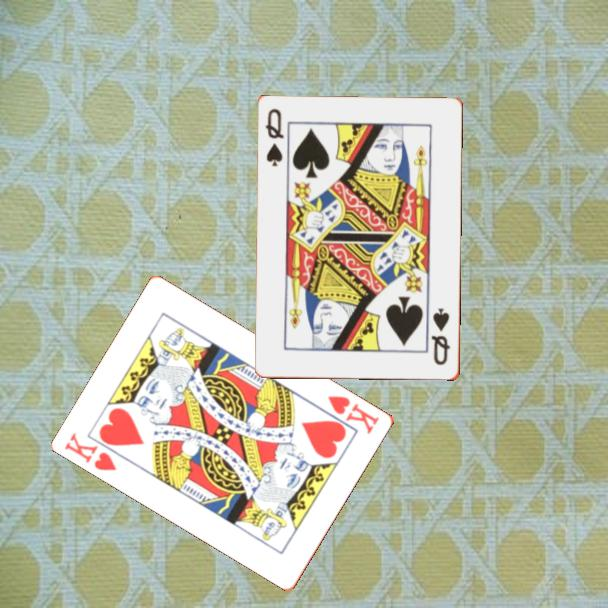h13: (324, 392, 382, 437), (62, 429, 120, 474)
s12: (262, 106, 287, 170), (428, 305, 453, 368)
